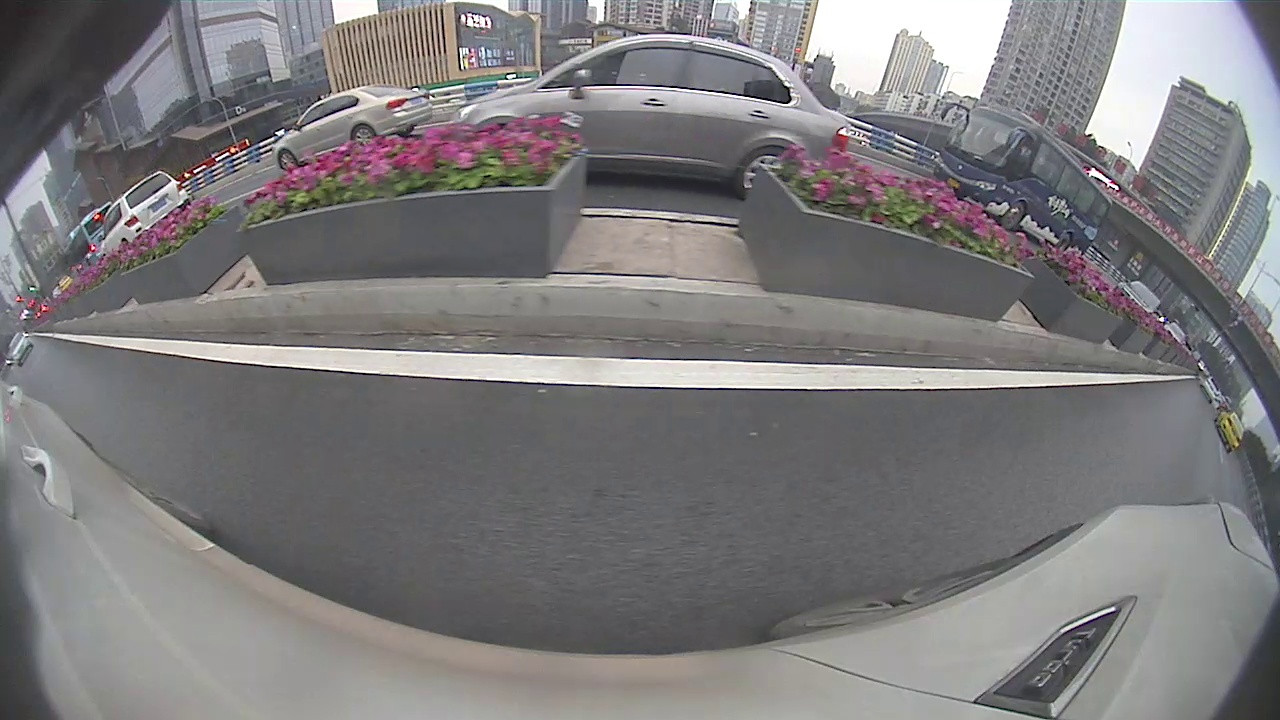car: (454, 31, 849, 174), (1213, 409, 1246, 454)
front: (277, 149, 301, 171)
rear: (733, 146, 790, 202), (352, 124, 377, 142)
